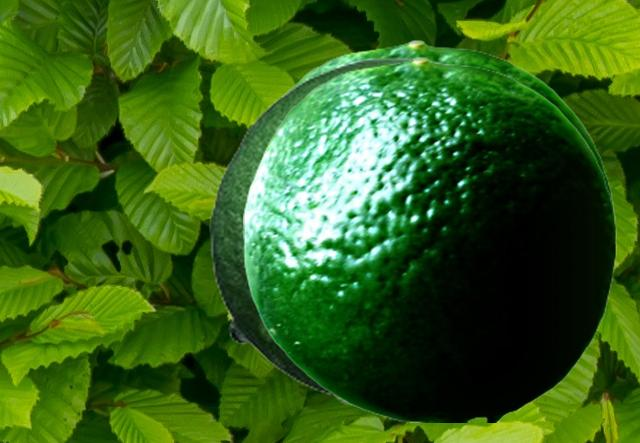calamansi: (243, 56, 615, 421), (209, 56, 461, 403), (279, 39, 613, 201)
